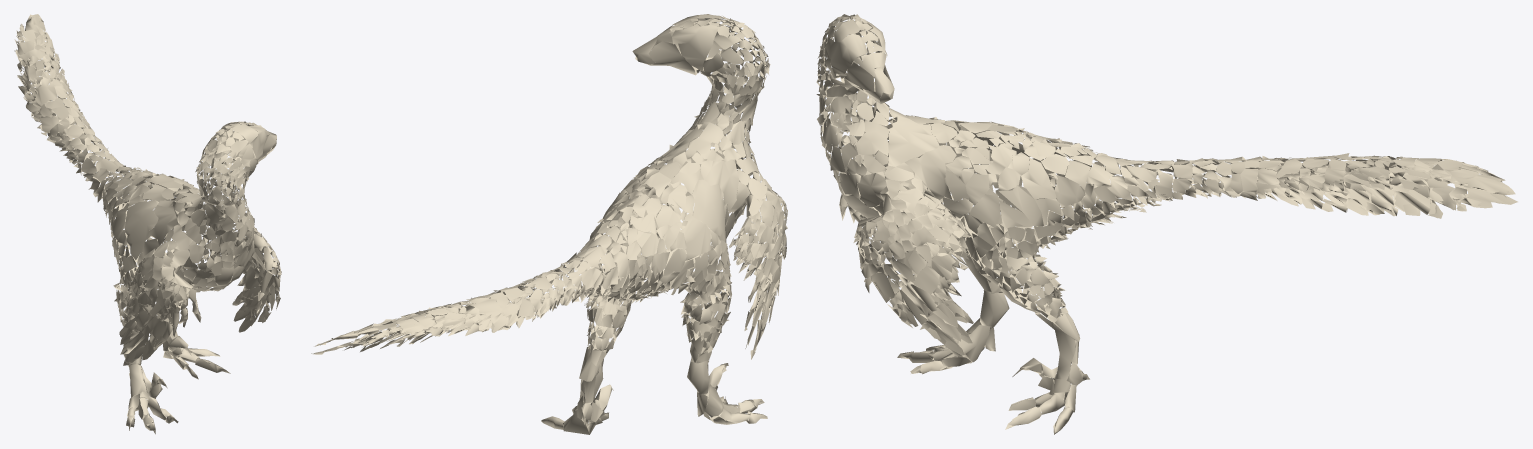
The model's file is velociraptor_skeleton.glb.
The picture shows the model from 3 angles, left to right: view 1: azimuth 30°, elevation 25°; view 2: azimuth 150°, elevation 25°; view 3: azimuth 270°, elevation 25°; orthographic projection. The views are drawn at different scales.
Visible parts, largest first — view 1: arm__part, skull__part, leg_l__part, tail__part, torso__part, arm__part.001, leg_r__part; view 2: arm__part, skull__part, torso__part, leg_l__part, arm__part.001, tail__part, leg_r__part; view 3: skull__part, torso__part, leg_r__part, tail__part, arm__part, arm__part.001, leg_l__part.
Boxes of the visible parts, x1=… form: arm__part: x1=102, y1=188, x2=281, y2=309; skull__part: x1=161, y1=121, x2=276, y2=291; leg_l__part: x1=113, y1=245, x2=201, y2=434; tail__part: x1=14, y1=14, x2=92, y2=138; torso__part: x1=54, y1=121, x2=200, y2=351; arm__part.001: x1=47, y1=114, x2=280, y2=358; leg_r__part: x1=163, y1=243, x2=280, y2=379; arm__part: x1=597, y1=131, x2=787, y2=291; skull__part: x1=629, y1=14, x2=770, y2=277; torso__part: x1=517, y1=172, x2=679, y2=424; leg_l__part: x1=635, y1=232, x2=786, y2=424; arm__part.001: x1=503, y1=121, x2=784, y2=424; tail__part: x1=311, y1=287, x2=541, y2=354; leg_r__part: x1=541, y1=222, x2=657, y2=434; skull__part: x1=816, y1=14, x2=976, y2=250; torso__part: x1=986, y1=121, x2=1246, y2=381; leg_r__part: x1=860, y1=244, x2=1082, y2=434; tail__part: x1=1256, y1=153, x2=1517, y2=218; arm__part: x1=838, y1=116, x2=1103, y2=259; arm__part.001: x1=838, y1=107, x2=1262, y2=385; leg_l__part: x1=839, y1=197, x2=1067, y2=374.
Bounding box in the file's own units: 0.5287 × 1.01 × 1.7.
